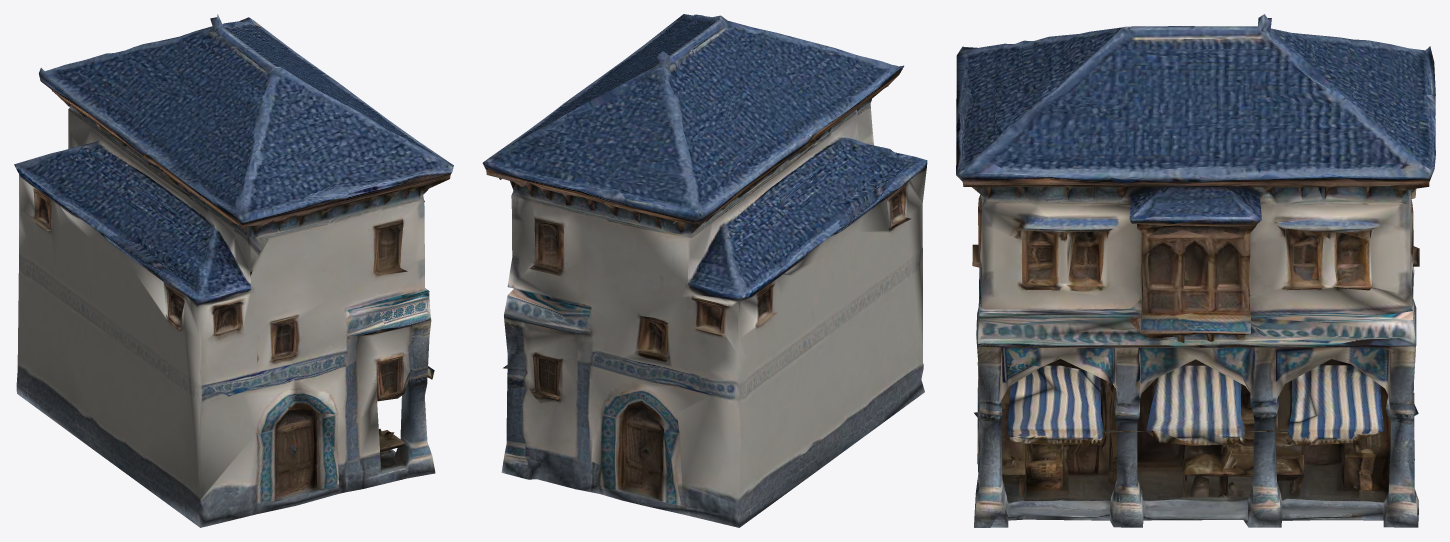
The model's file is house_merchant_1.glb.
The picture shows the model from 3 angles, left to right: view 1: azimuth 30°, elevation 25°; view 2: azimuth 150°, elevation 25°; view 3: azimuth 270°, elevation 25°; orthographic projection. The views are drawn at different scales.
Visible parts, largest first — view 1: tripo_node_6ee37dab-8b94-4079-a453-865316013700; view 2: tripo_node_6ee37dab-8b94-4079-a453-865316013700; view 3: tripo_node_6ee37dab-8b94-4079-a453-865316013700.
Boxes of the visible parts, left/top/right/bottom form: tripo_node_6ee37dab-8b94-4079-a453-865316013700: left=14, top=14, right=453, bottom=527; tripo_node_6ee37dab-8b94-4079-a453-865316013700: left=482, top=14, right=927, bottom=527; tripo_node_6ee37dab-8b94-4079-a453-865316013700: left=956, top=14, right=1435, bottom=527.
Bounding box in the file's own units: 0.7148 × 0.9781 × 0.9243.
1 material, 1 textured.
